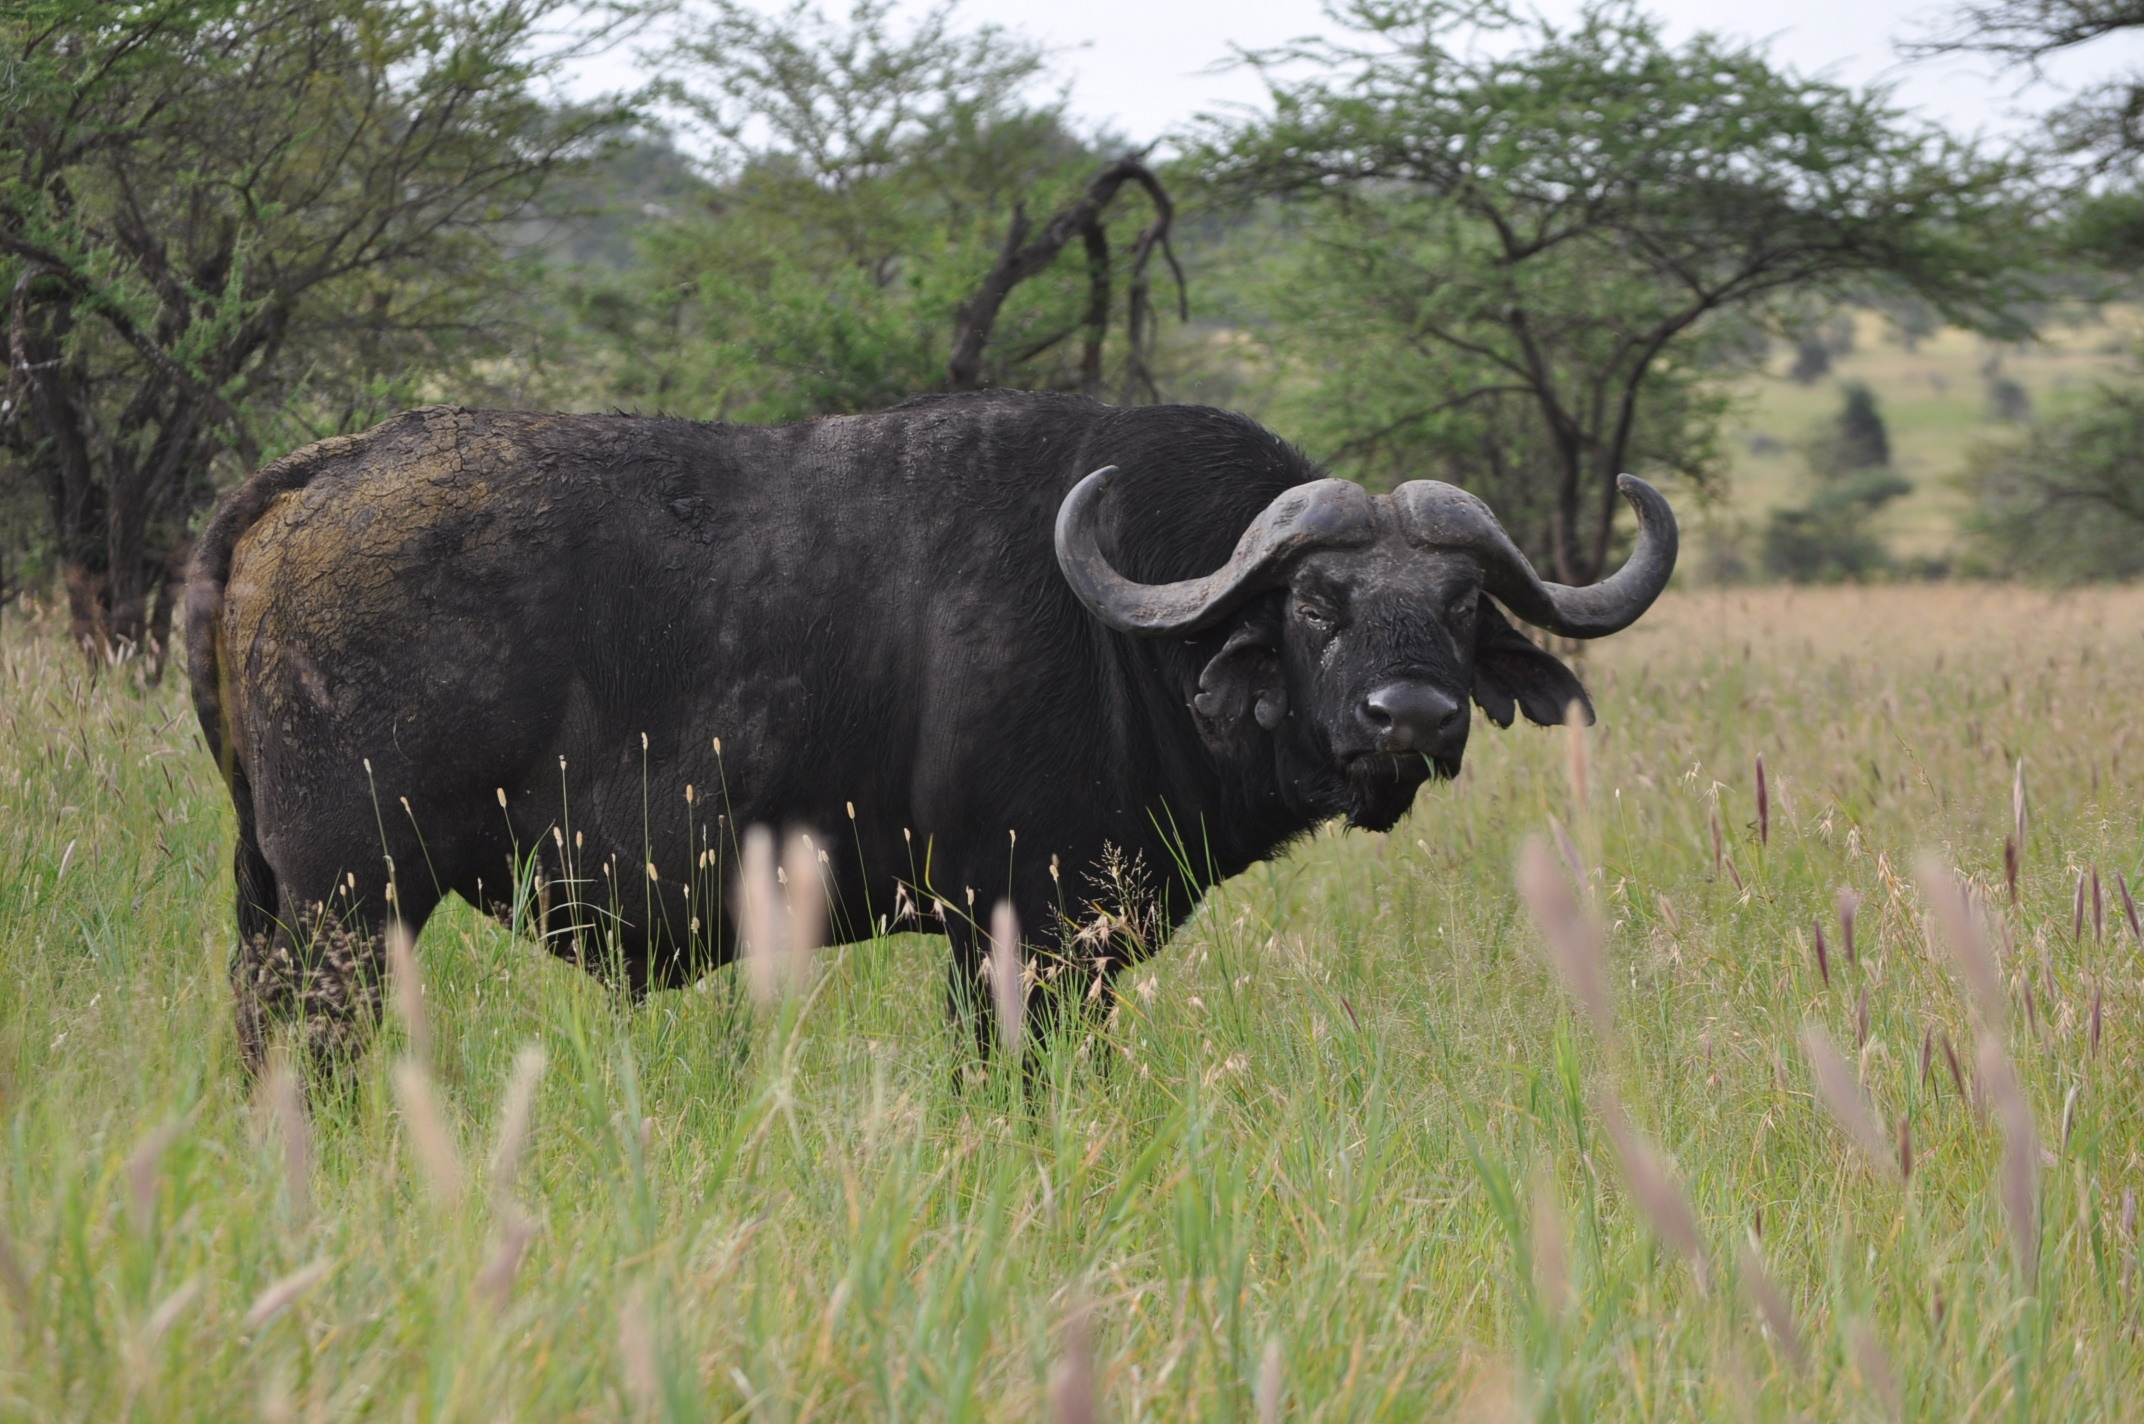buffalo: (189, 394, 1683, 1119)
